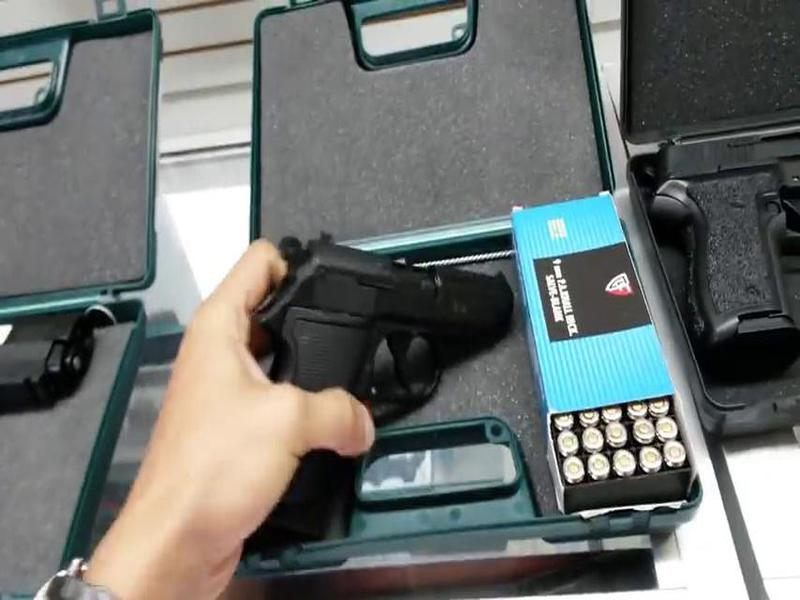Pistola: (238, 225, 524, 526)
